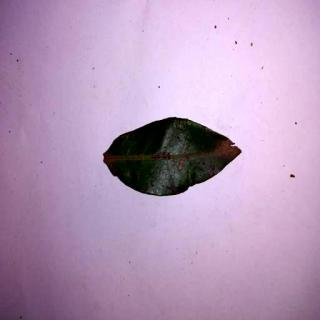Bird Eye Spot: (105, 117, 242, 198)
